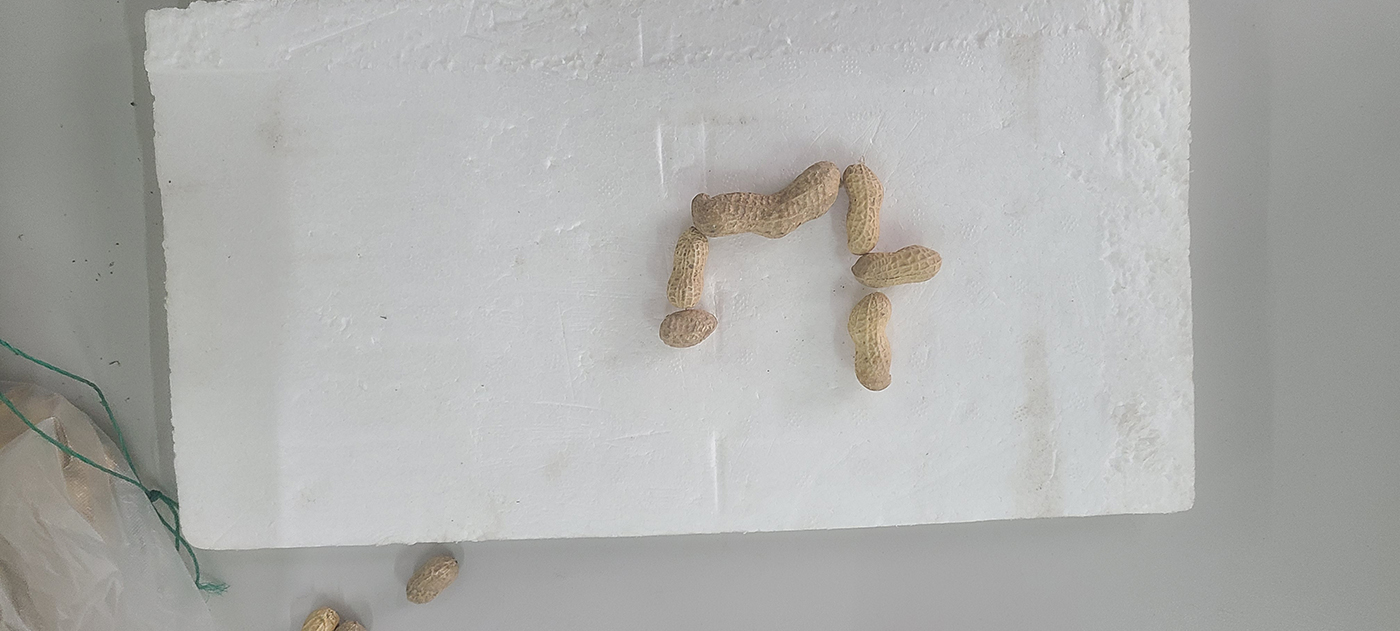h: (691, 160, 843, 238), (847, 292, 896, 392), (850, 245, 942, 286), (666, 227, 710, 310), (844, 163, 884, 254)
l: (406, 556, 458, 605), (659, 309, 718, 348)
